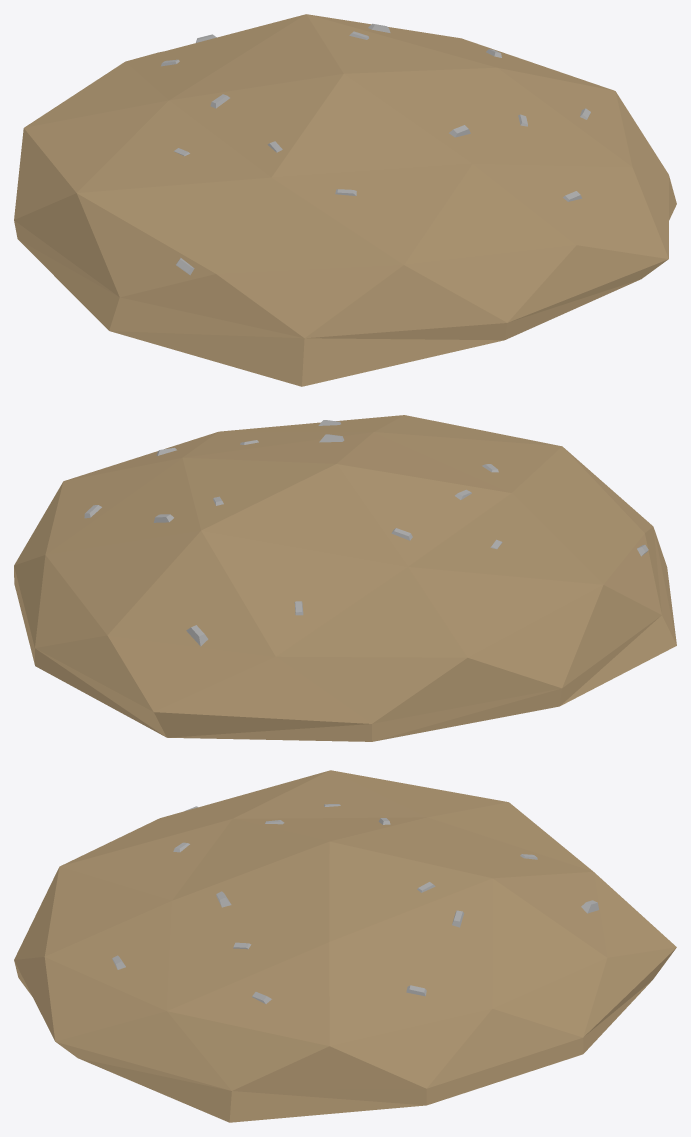
Rendered from Burger_Bread.glb.
The picture shows the model from 3 angles, top to bottom: view 1: azimuth 30°, elevation 25°; view 2: azimuth 150°, elevation 25°; view 3: azimuth 270°, elevation 25°; orthographic projection. The views are drawn at different scales.
Parts seen in each view (by area): view 1: Burger_Bread; view 2: Burger_Bread; view 3: Burger_Bread.
Boxes of the visible parts, x1,y1,x2,y2 form: Burger_Bread: [14, 14, 676, 386]; Burger_Bread: [14, 415, 676, 741]; Burger_Bread: [14, 770, 676, 1122].
Size of the model in its own units: 1.48 by 0.4047 by 1.58.
